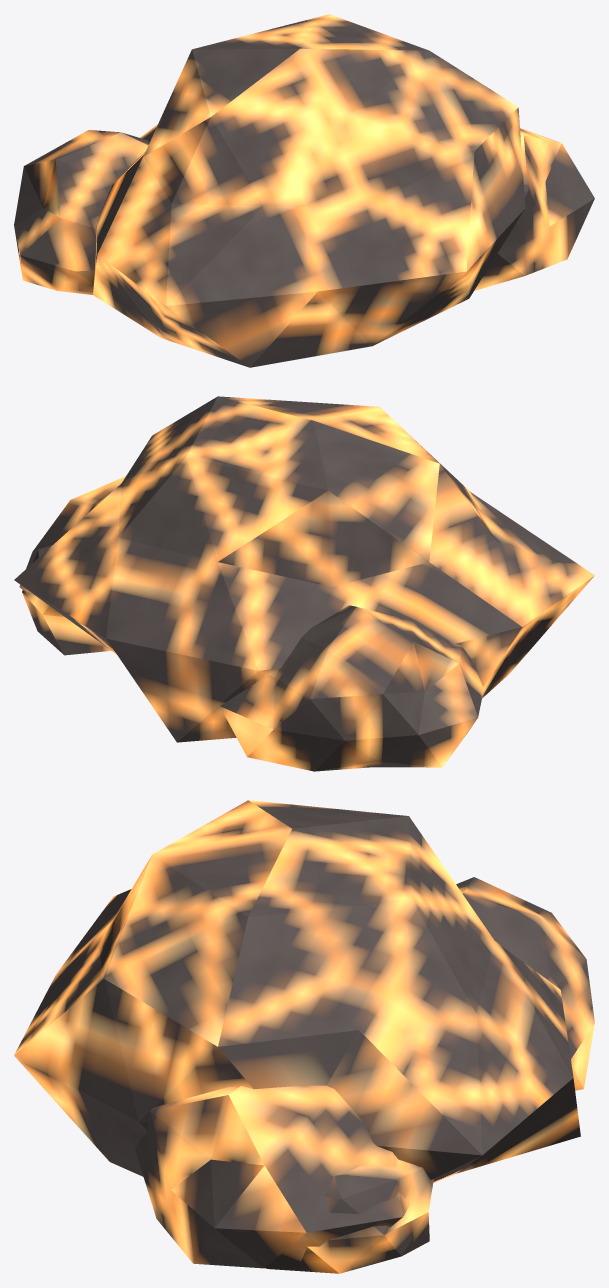
The model's file is slag_chunk_a.gltf.
The picture shows the model from 3 angles, top to bottom: view 1: azimuth 30°, elevation 25°; view 2: azimuth 150°, elevation 25°; view 3: azimuth 270°, elevation 25°; orthographic projection. The views are drawn at different scales.
Visible parts, largest first — view 1: slag_chunk_a; view 2: slag_chunk_a; view 3: slag_chunk_a.
Boxes of the visible parts, bbox=[...] form: slag_chunk_a: bbox=[14, 14, 594, 367]; slag_chunk_a: bbox=[14, 396, 594, 771]; slag_chunk_a: bbox=[14, 800, 594, 1273].
Bounding box in the file's own units: 0.9317 × 0.4295 × 0.7627.
1 material, 1 textured.
